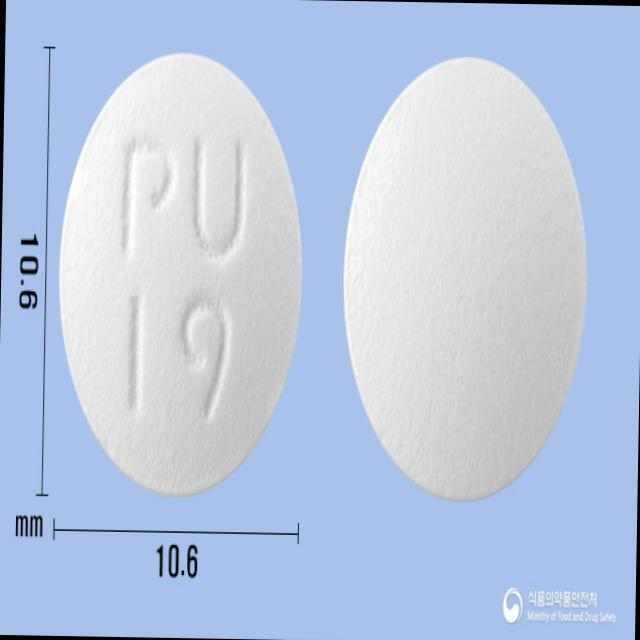Flori: (52, 46, 308, 498)
